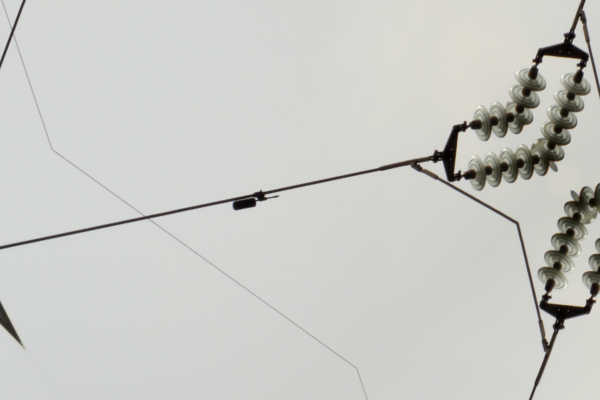damper_defect: (231, 188, 282, 212)
